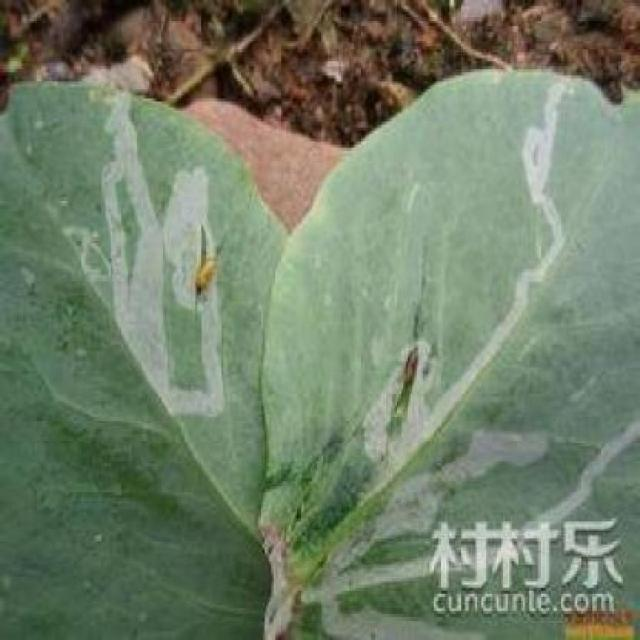whorl-maggot: (189, 230, 233, 305), (388, 335, 432, 393)
